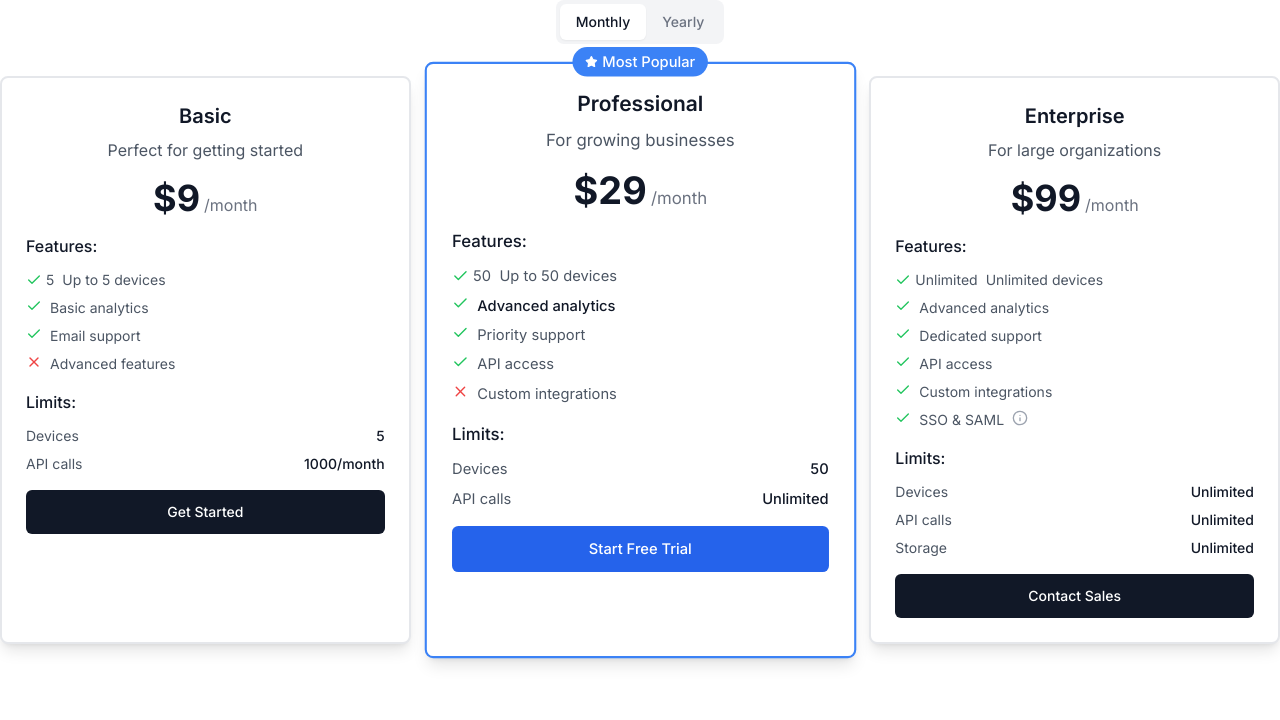
PricingTable Component › Tooltips › hides tooltip on mouse leave
The width and height of the screenshot is (1280, 720).
Hover over the icon with class "cursor-help" at (1020, 418), box [1012,410,1028,426]
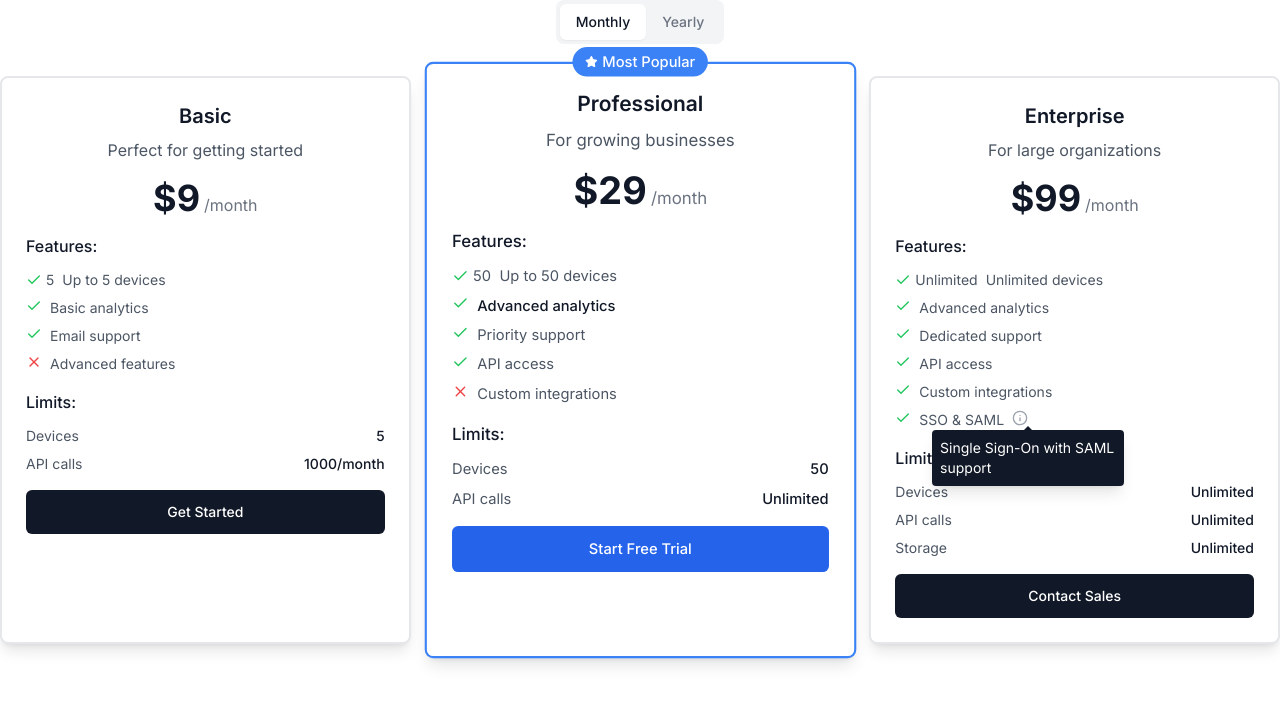
Move the pointer off the icon with class "cursor-help", box [1012,410,1028,426]
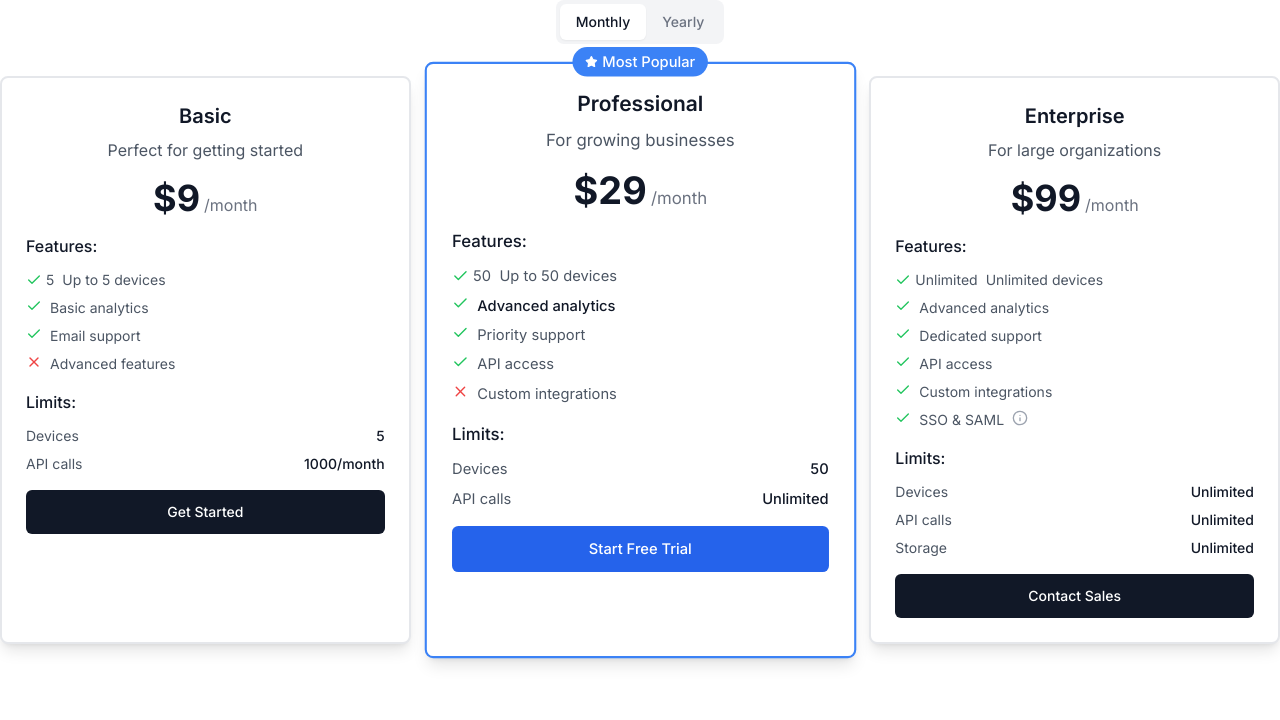
Check: the text "Single Sign-On with SAML support" is gone
